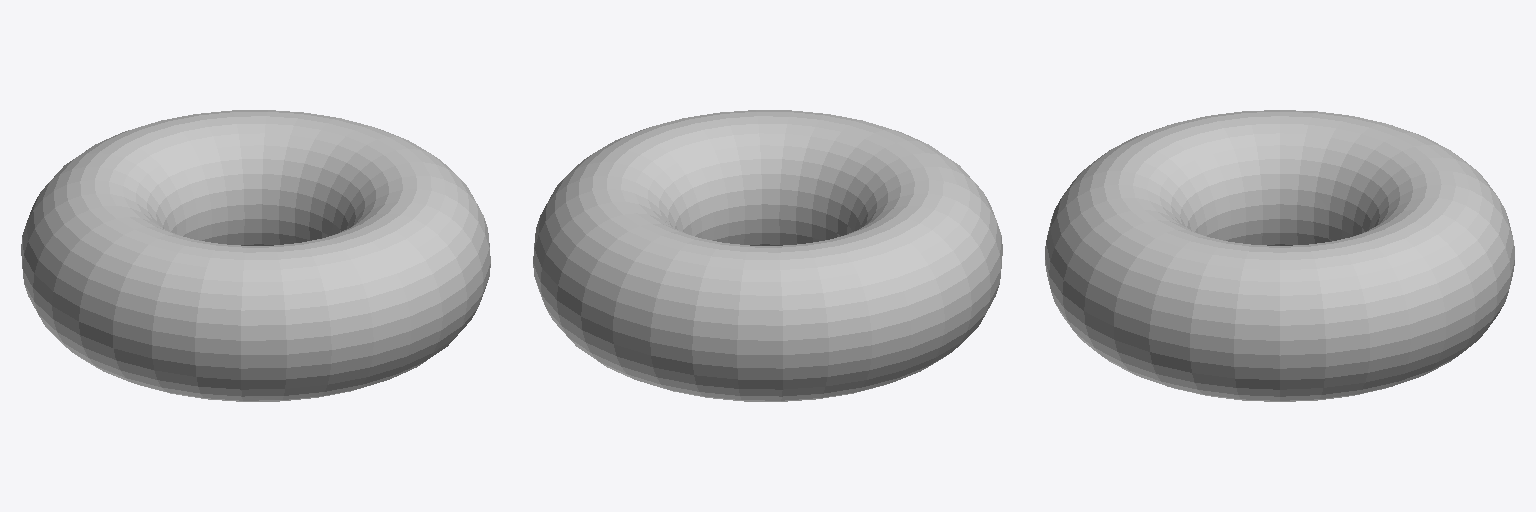
The model's file is torus32_smoothed_40.obj.
The picture shows the model from 3 angles: view 1: azimuth 30°, elevation 25°; view 2: azimuth 150°, elevation 25°; view 3: azimuth 270°, elevation 25°; orthographic projection.
Bounding box in the file's own units: 10.71 × 3.59 × 10.71.